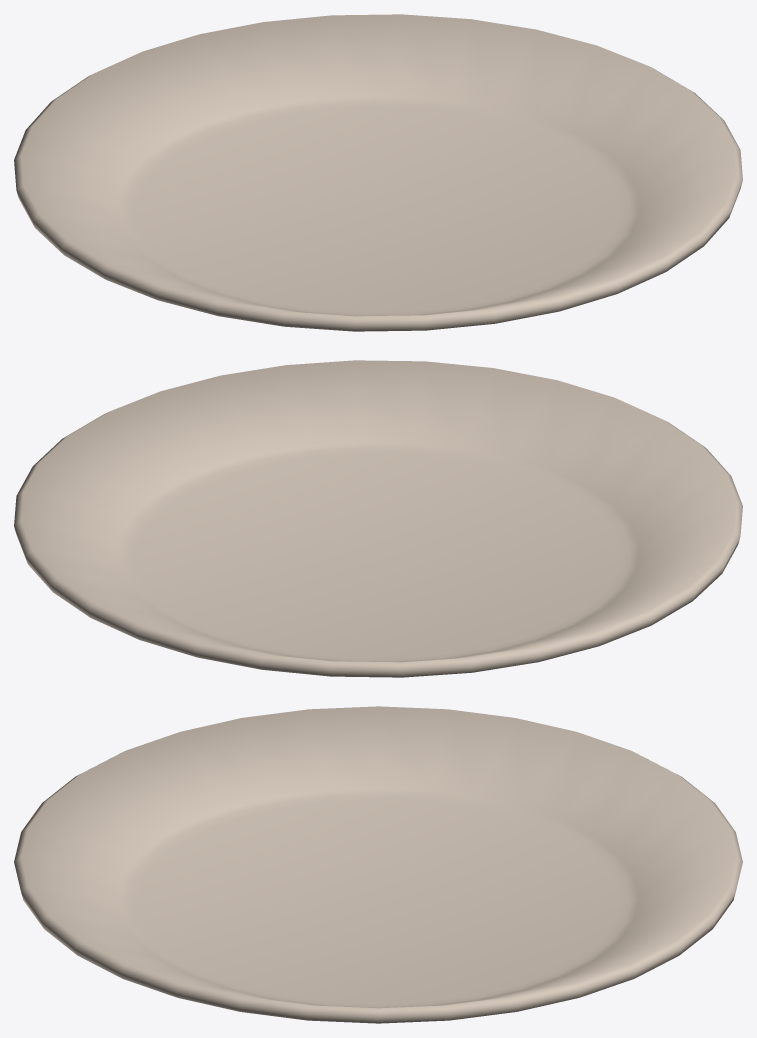
The model's file is SM_plate.fbx.
3 renders of one model, top to bottom at view 1: azimuth 30°, elevation 25°; view 2: azimuth 150°, elevation 25°; view 3: azimuth 270°, elevation 25°, orthographic.
Visible parts, largest first — view 1: SM_plate; view 2: SM_plate; view 3: SM_plate.
Boxes of the visible parts, x1,y1,x2,y2 form: SM_plate: (14, 14, 742, 331); SM_plate: (14, 360, 742, 677); SM_plate: (14, 706, 742, 1023).
Size of the model in its own units: 29.17 by 2.98 by 29.17.
Materials: 1 (1 with a texture image).
